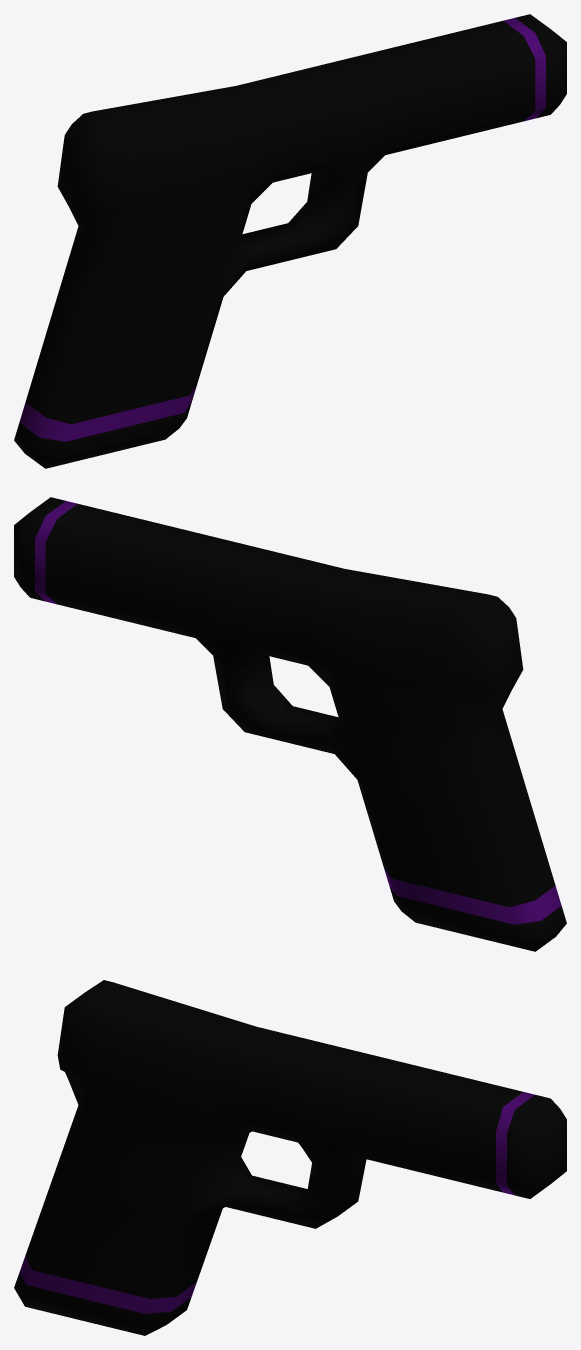
The model's file is Pistol.fbx.
3 views of the same model, one above another, from view 1: azimuth 30°, elevation 25°; view 2: azimuth 150°, elevation 25°; view 3: azimuth 330°, elevation 25° (orthographic).
Visible parts, largest first — view 1: Pistol; view 2: Pistol; view 3: Pistol.
Part boxes in pixels (box(x1,y1,x2,y2)): Pistol: box(14, 14, 566, 468); Pistol: box(14, 497, 566, 951); Pistol: box(14, 980, 566, 1335).
Bounding box in the file's own units: 0.7203 × 0.0921 × 0.4213.
